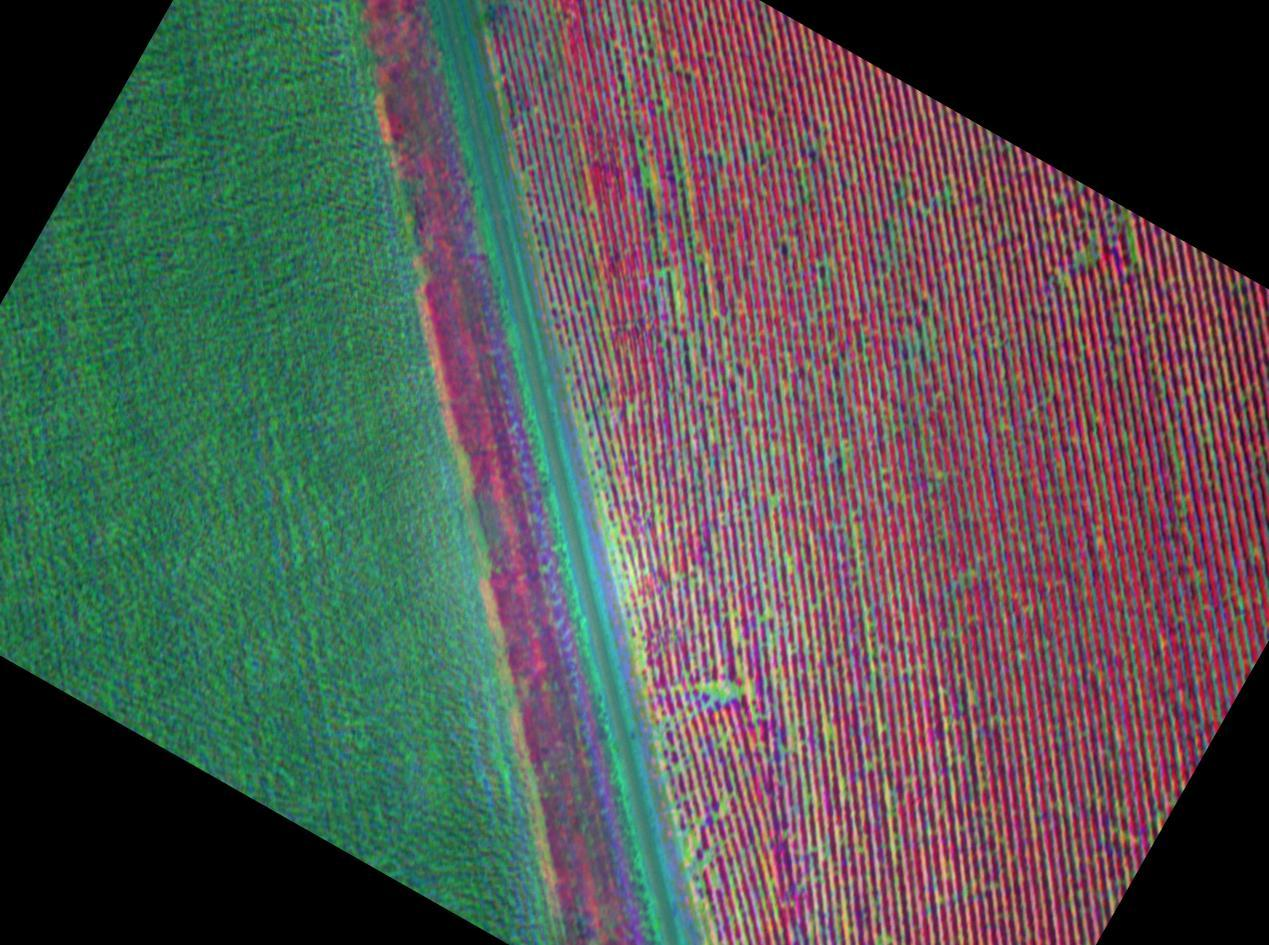dc: (708, 686, 724, 696), (823, 725, 828, 731), (721, 804, 726, 810), (1157, 814, 1162, 820), (705, 854, 710, 859), (694, 840, 698, 845), (1251, 548, 1254, 553)
